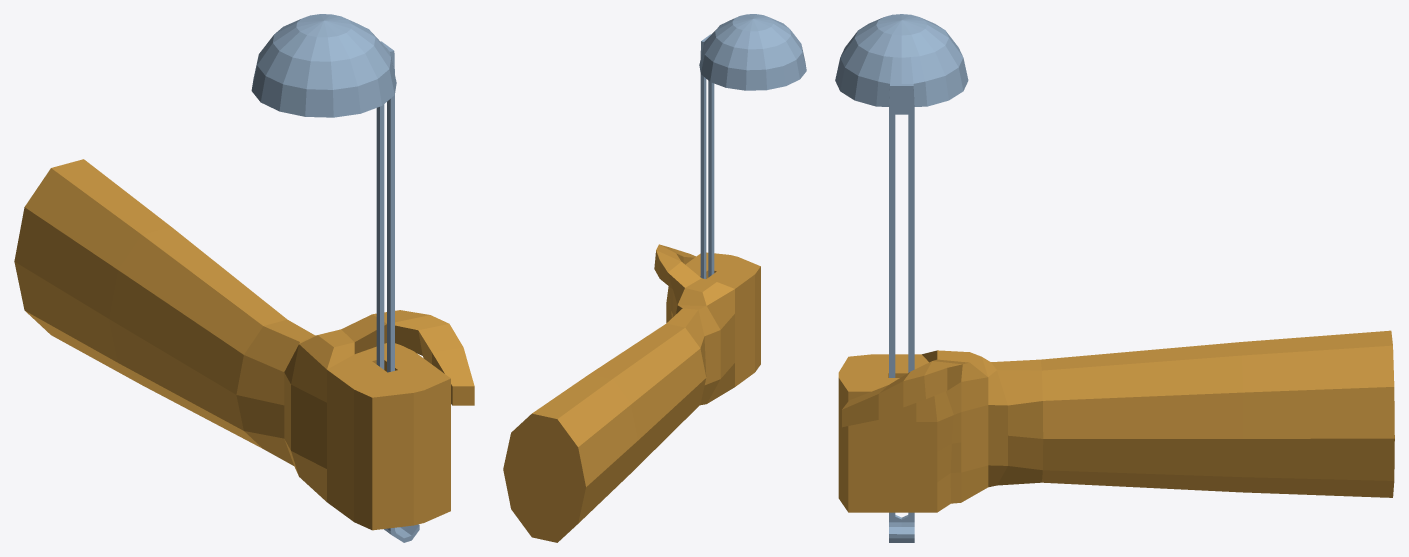
The model's file is Attack Hand.fbx.
3 renders of one model, left to right at view 1: azimuth 30°, elevation 25°; view 2: azimuth 150°, elevation 25°; view 3: azimuth 270°, elevation 25°, orthographic. The views are drawn at different scales.
Visible parts, largest first — view 1: Cube, Sphere; view 2: Cube, Sphere; view 3: Cube, Sphere.
Part boxes in pixels (x1,y1,x2,y2): Cube: (14,159,474,530); Sphere: (251,14,419,542); Cube: (503,244,760,542); Sphere: (699,14,806,278); Cube: (838,330,1394,512); Sphere: (835,14,968,542).
Size of the model in its own units: 300 by 806 by 839.
